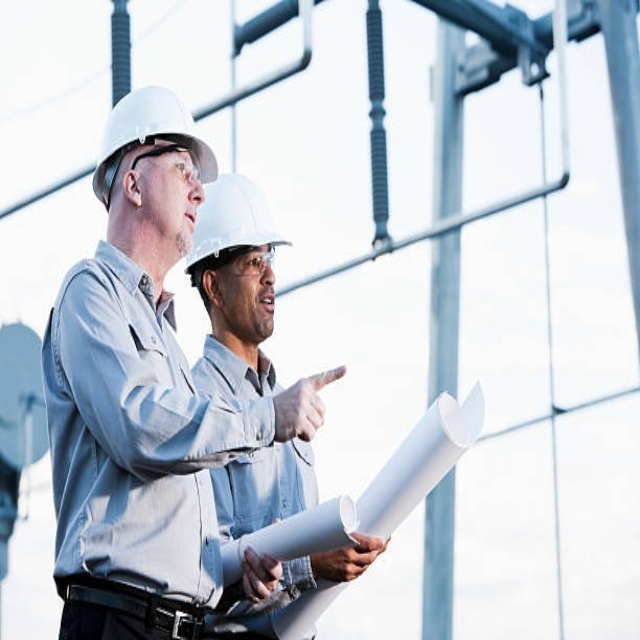Gafas: (109, 141, 192, 211), (223, 250, 279, 278)
Sin_guantes: (274, 364, 346, 444), (317, 529, 392, 585), (239, 540, 283, 603)
Sin_mascara: (245, 285, 277, 331), (167, 201, 199, 240)
